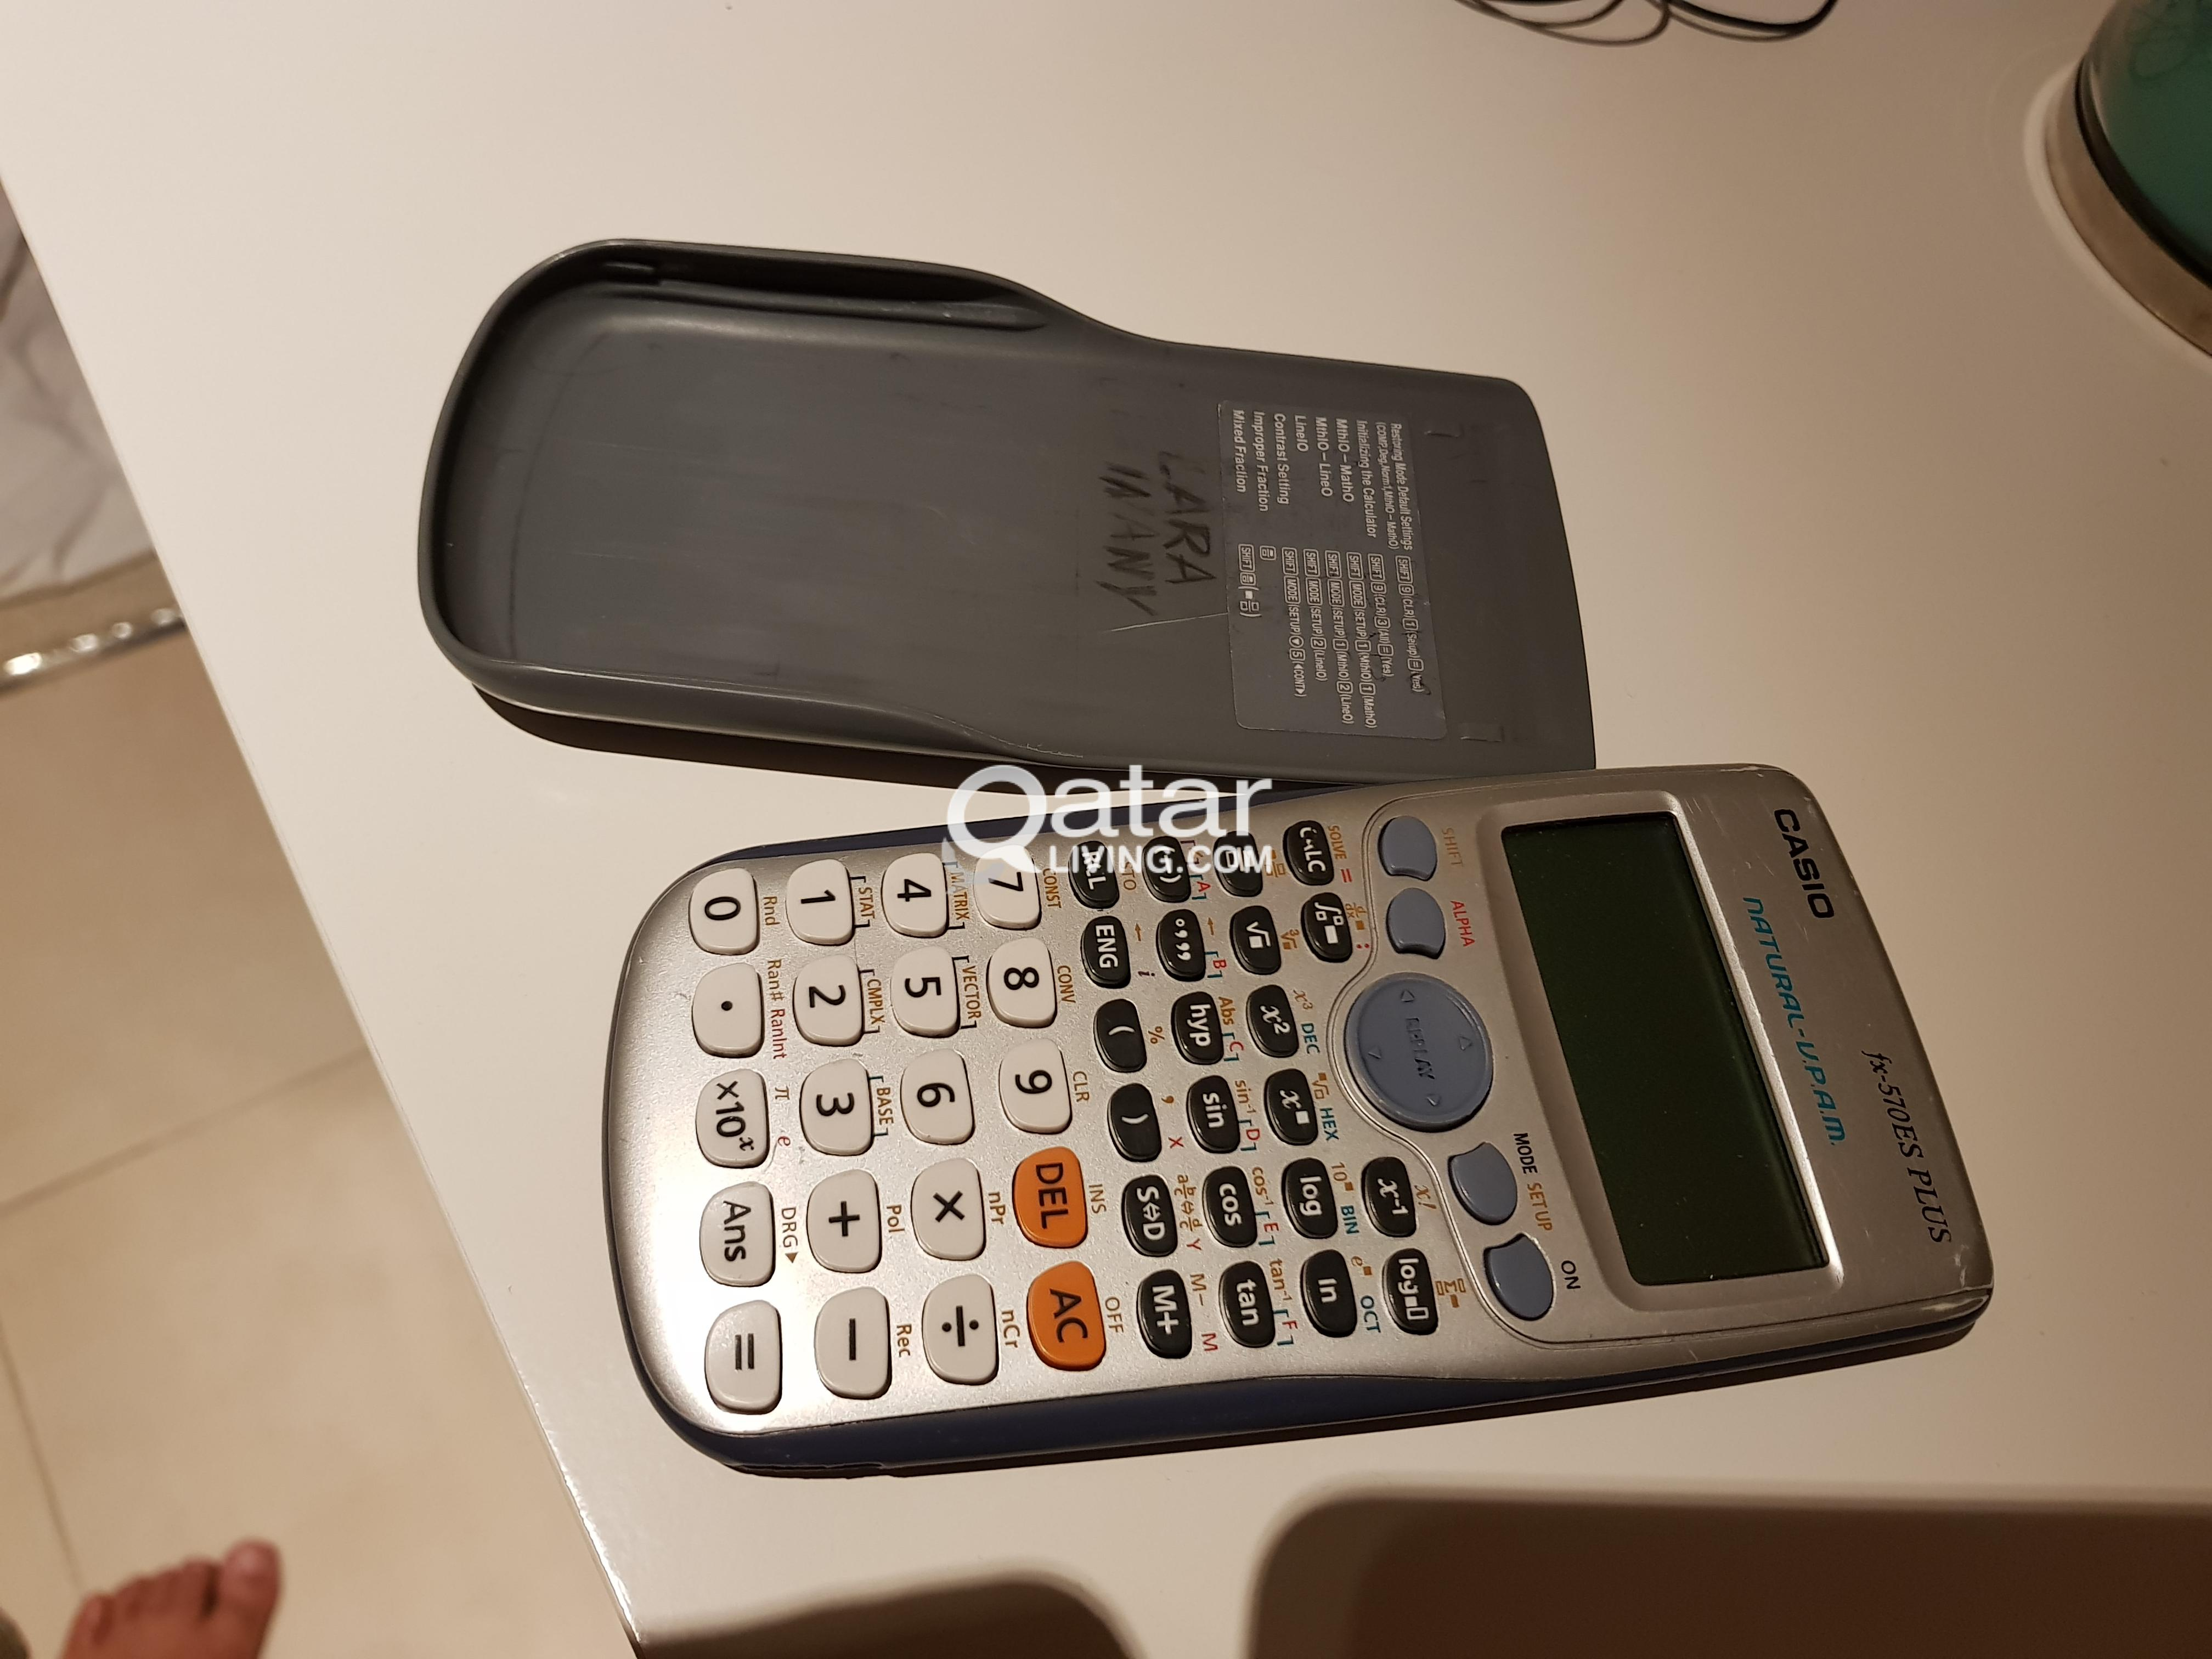Calculator: (578, 749, 2010, 1492)
